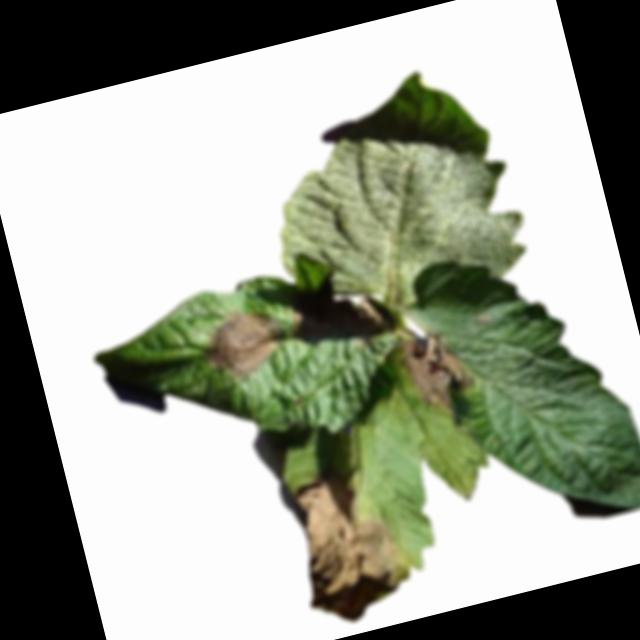Late_blight: (279, 459, 425, 632), (192, 301, 294, 389), (395, 323, 482, 419), (353, 293, 380, 329), (287, 311, 306, 334)
